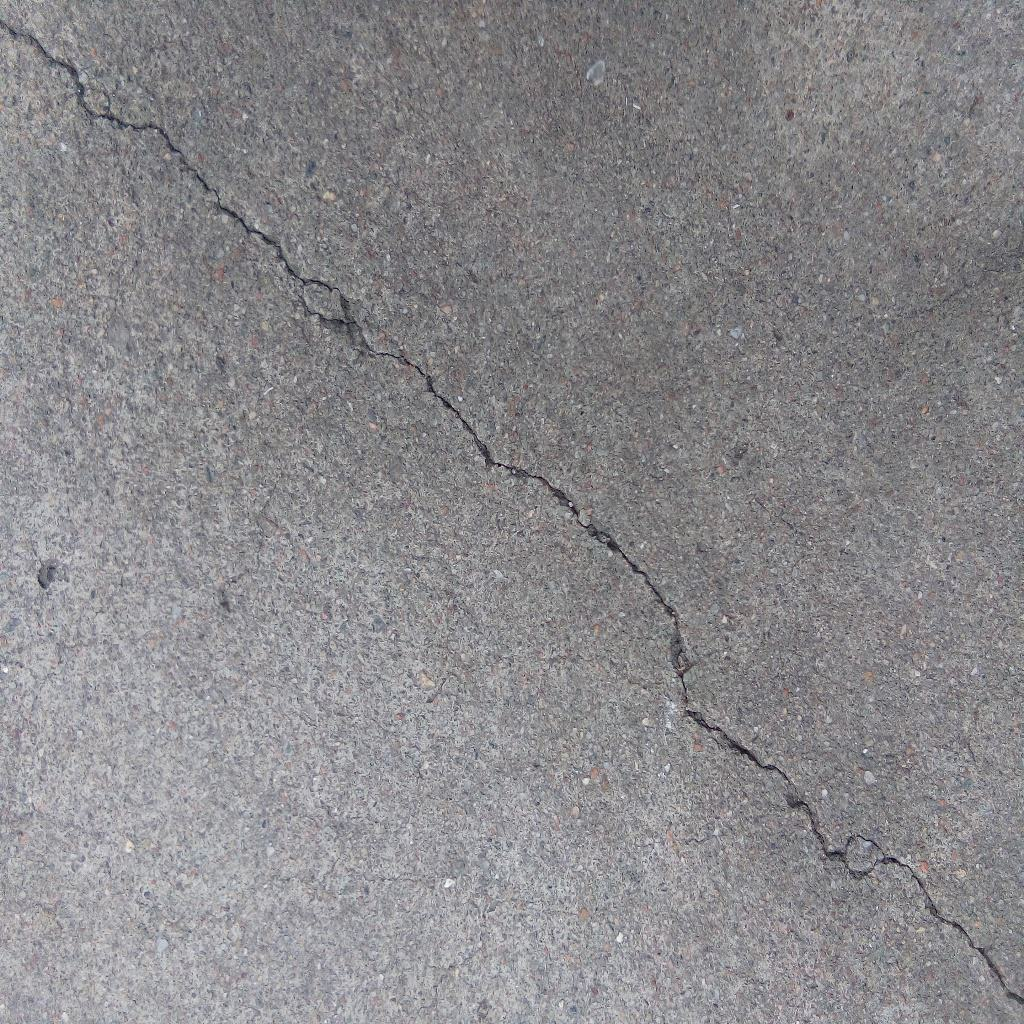Crack: (1, 16, 1024, 1007)
